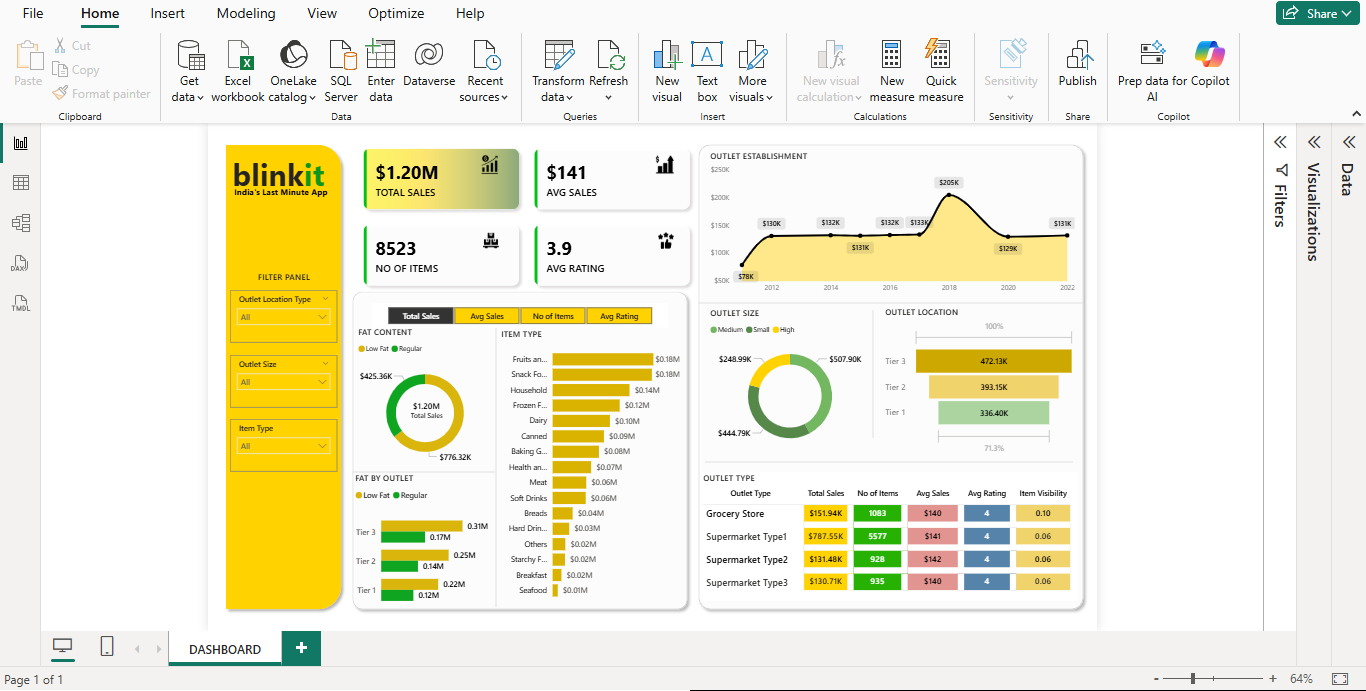

The page's visual inventory and layout, read from the dashboard file:
{"tool":"powerbi","page":{"name":"DASHBOARD","canvas":[1400,800],"ordinal":0},"visuals":[{"type":"shape","box":[18.9,25.2,200,749.6],"z":0},{"type":"cardVisual","fields":{"Data":["BlinkIT Grocery Data.Total Sales","BlinkIT Grocery Data.Avg Sales","BlinkIT Grocery Data.No of Items","BlinkIT Grocery Data.Avg Rating"]},"box":[218.9,14.2,566.9,269.3],"z":1000},{"type":"textbox","box":[18.9,42.5,184.3,81.9],"z":2000},{"type":"textbox","box":[26.8,94.5,176.4,29.9],"z":3000},{"type":"image","box":[426.8,50.4,34.6,29.9],"z":4000},{"type":"image","box":[433.1,170.1,25.2,29.9],"z":5000},{"type":"image","box":[702.4,50.4,34.6,29.9],"z":6000},{"type":"image","box":[708.7,170.1,25.2,29.9],"z":7000},{"type":"shape","box":[218.9,256.7,544.9,518.1],"z":8000},{"type":"donutChart","title":"FAT CONTENT","fields":{"Y":["BlinkIT Grocery Data.Total Sales"],"Category":["BlinkIT Grocery Data.Item Fat Content"]},"box":[231.5,319.7,220.5,229.9],"z":9000},{"type":"slicer","fields":{"Values":["Metrics.Metrics"]},"box":[258.3,283.5,464.6,39.4],"z":10000},{"type":"cardVisual","fields":{"Data":["BlinkIT Grocery Data.Total Sales"]},"box":[272.4,403.1,144.9,97.6],"z":11000},{"type":"clusteredBarChart","title":"FAT BY OUTLET","fields":{"Series":["BlinkIT Grocery Data.Item Fat Content"],"Category":["BlinkIT Grocery Data.Outlet Location Type"],"Y":["BlinkIT Grocery Data.Total Sales"]},"box":[226.8,549.6,218.9,228.3],"z":12000},{"type":"shape","box":[226.8,526,225.2,47.2],"z":13000},{"type":"shape","box":[439.4,322.8,28.3,439.4],"z":14000},{"type":"barChart","title":"ITEM TYPE","fields":{"Y":["BlinkIT Grocery Data.Total Sales"],"Category":["BlinkIT Grocery Data.Item Type"]},"box":[456.7,322.8,291.3,437.8],"z":15000},{"type":"shape","box":[763.8,25.2,623.6,749.6],"z":16000},{"type":"lineChart","title":"OUTLET ESTABLISHMENT","fields":{"Y":["BlinkIT Grocery Data.Total Sales"],"Category":["BlinkIT Grocery Data.Outlet Establishment Year"]},"box":[785.8,42.5,584.3,234.6],"z":17000},{"type":"shape","box":[771.7,261.4,606.3,44.1],"z":18000},{"type":"donutChart","title":"OUTLET SIZE","fields":{"Y":["BlinkIT Grocery Data.Total Sales"],"Category":["BlinkIT Grocery Data.Outlet Size"]},"box":[785.8,289.8,261.4,236.2],"z":19000},{"type":"shape","box":[1033.1,294.5,28.3,201.6],"z":20000},{"type":"funnel","title":"OUTLET LOCATION","fields":{"Y":["Sum(BlinkIT Grocery Data.Sales)"],"Category":["BlinkIT Grocery Data.Outlet Location Type"]},"box":[1061.4,288.2,308.7,237.8],"z":21000},{"type":"shape","box":[782.7,511.8,579.5,44.1],"z":22000},{"type":"pivotTable","title":"OUTLET TYPE","fields":{"Rows":["BlinkIT Grocery Data.Outlet Type"],"Values":["BlinkIT Grocery Data.Total Sales","BlinkIT Grocery Data.No of Items","BlinkIT Grocery Data.Avg Sales","BlinkIT Grocery Data.Avg Rating","Avg(BlinkIT Grocery Data.Item Visibility)"]},"box":[774.8,549.6,595.3,203.1],"z":23000},{"type":"slicer","fields":{"Values":["BlinkIT Grocery Data.Outlet Location Type"]},"box":[34.6,263,168.5,83.5],"z":24000},{"type":"slicer","fields":{"Values":["BlinkIT Grocery Data.Outlet Size"]},"box":[34.6,365.4,168.5,83.5],"z":25000},{"type":"slicer","fields":{"Values":["BlinkIT Grocery Data.Item Type"]},"box":[34.6,466.1,168.5,83.5],"z":26000},{"type":"textbox","box":[40.9,228.3,157.5,33.1],"z":27000}]}

Visuals, with their boxes on the page's 1400x800 design canvas (x1, y1, x2, y2). These are canvas units, not pixel positions in the 1366x691 screenshot, which may show the page scaled, cropped or inside an application window:
shape: l=19, t=25, r=219, b=775
cardVisual - BlinkIT Grocery Data.Total Sales x BlinkIT Grocery Data.Avg Sales: l=219, t=14, r=786, b=284
textbox: l=19, t=42, r=203, b=124
textbox: l=27, t=94, r=203, b=124
image: l=427, t=50, r=461, b=80
image: l=433, t=170, r=458, b=200
image: l=702, t=50, r=737, b=80
image: l=709, t=170, r=734, b=200
shape: l=219, t=257, r=764, b=775
"FAT CONTENT" donutChart: l=232, t=320, r=452, b=550
slicer - Metrics.Metrics: l=258, t=284, r=723, b=323
cardVisual - BlinkIT Grocery Data.Total Sales: l=272, t=403, r=417, b=501
"FAT BY OUTLET" clusteredBarChart: l=227, t=550, r=446, b=778
shape: l=227, t=526, r=452, b=573
shape: l=439, t=323, r=468, b=762
"ITEM TYPE" barChart: l=457, t=323, r=748, b=761
shape: l=764, t=25, r=1387, b=775
"OUTLET ESTABLISHMENT" lineChart: l=786, t=42, r=1370, b=277
shape: l=772, t=261, r=1378, b=306
"OUTLET SIZE" donutChart: l=786, t=290, r=1047, b=526
shape: l=1033, t=294, r=1061, b=496
"OUTLET LOCATION" funnel: l=1061, t=288, r=1370, b=526
shape: l=783, t=512, r=1362, b=556
"OUTLET TYPE" pivotTable: l=775, t=550, r=1370, b=753
slicer - BlinkIT Grocery Data.Outlet Location Type: l=35, t=263, r=203, b=346
slicer - BlinkIT Grocery Data.Outlet Size: l=35, t=365, r=203, b=449
slicer - BlinkIT Grocery Data.Item Type: l=35, t=466, r=203, b=550
textbox: l=41, t=228, r=198, b=261
